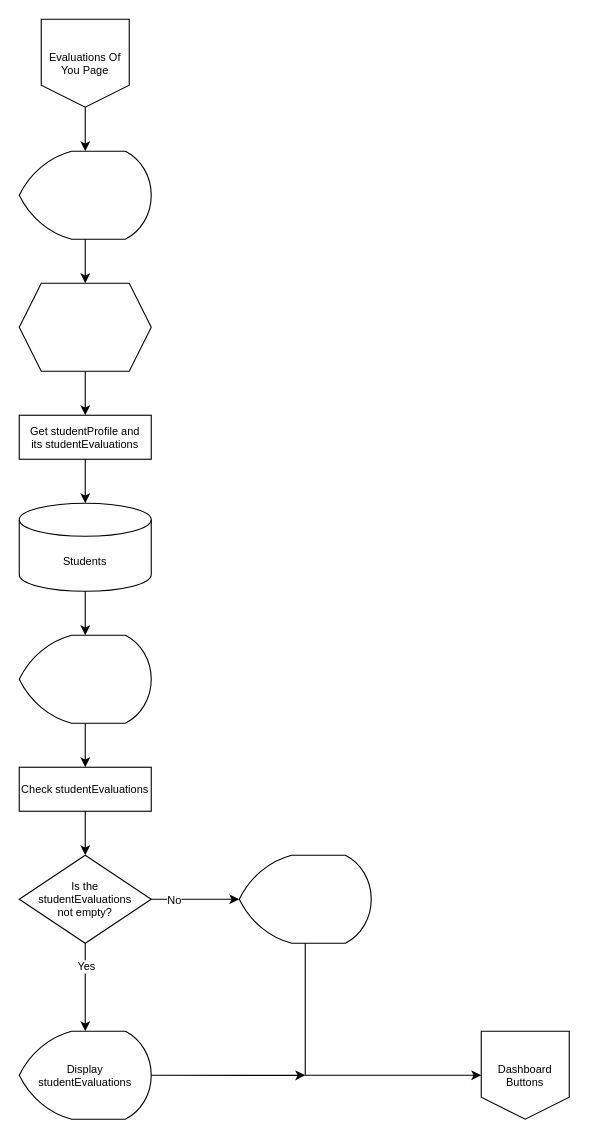
Some shapes in this 589 by 1139 pixel diagram are drawn without their labels. Here are the shapes that lost their labels. From the top down, the box of each, then its label:
(18, 150, 151, 239): Display Evaluations Of You Page
(18, 282, 151, 371): studentProfile studentEvaluations
(18, 634, 151, 723): Display studentProfile
(238, 854, 371, 943): Display Empty
